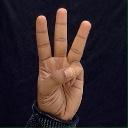hand: (35, 7, 91, 122)
